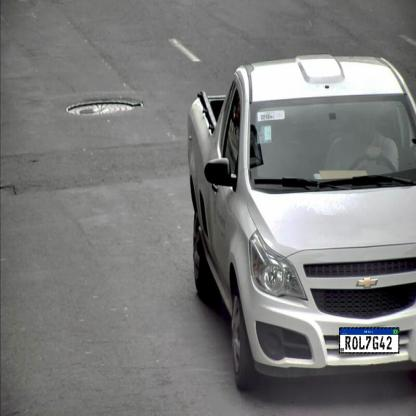PlacaM: (339, 327, 399, 354)
